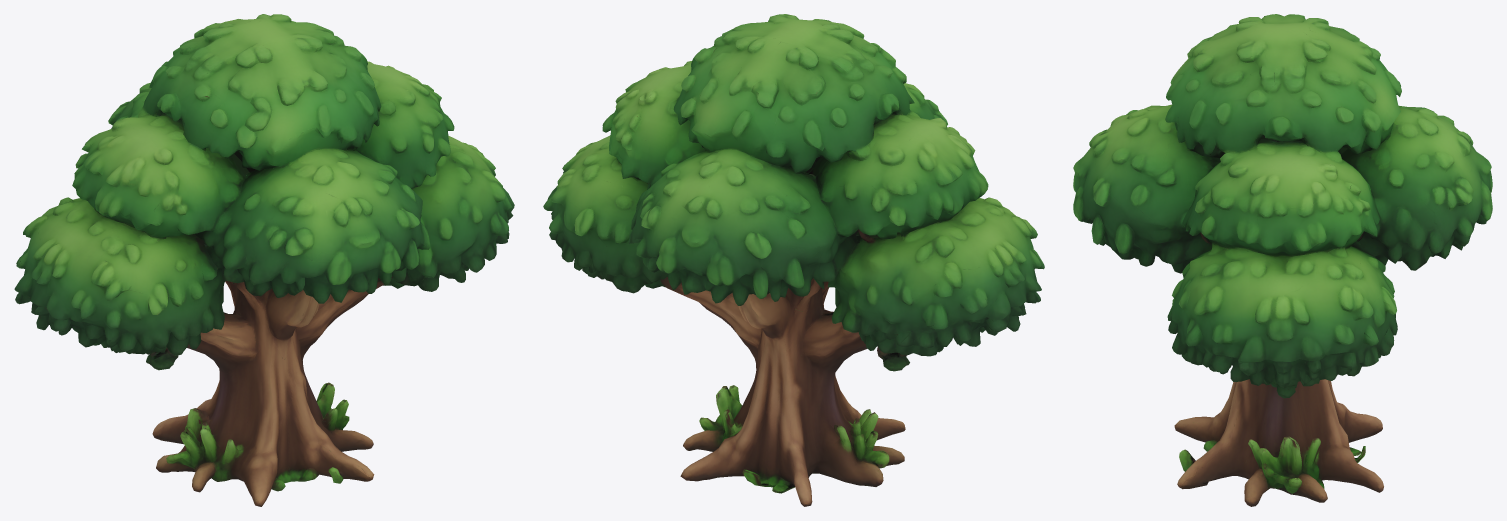
Rendered from tree1.glb.
3 renders of one model, left to right at view 1: azimuth 30°, elevation 25°; view 2: azimuth 150°, elevation 25°; view 3: azimuth 270°, elevation 25°, orthographic.
Visible parts, largest first — view 1: world_0; view 2: world_0; view 3: world_0.
Boxes of the visible parts, left/top/right/bottom form: world_0: left=14, top=14, right=514, bottom=506; world_0: left=543, top=14, right=1044, bottom=506; world_0: left=1073, top=14, right=1492, bottom=506.
Size of the model in its own units: 1 by 0.8943 by 0.7797.
Materials: 1 (1 with a texture image).
